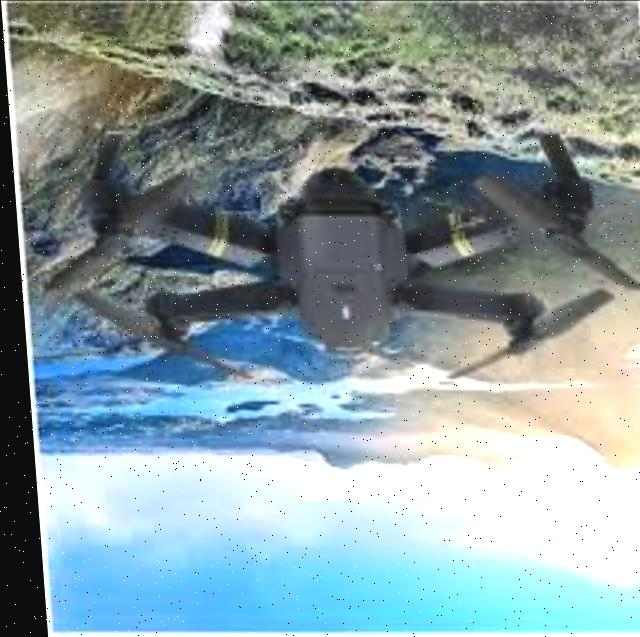drone: (26, 95, 640, 398)
